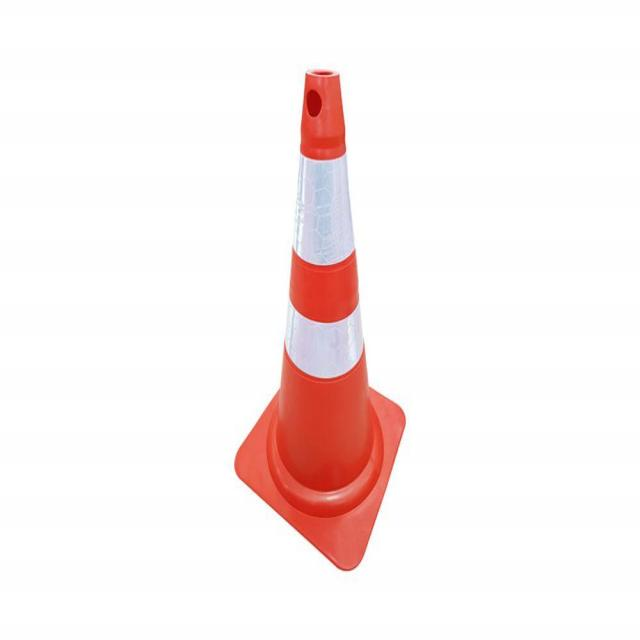cone: (254, 45, 392, 567)
